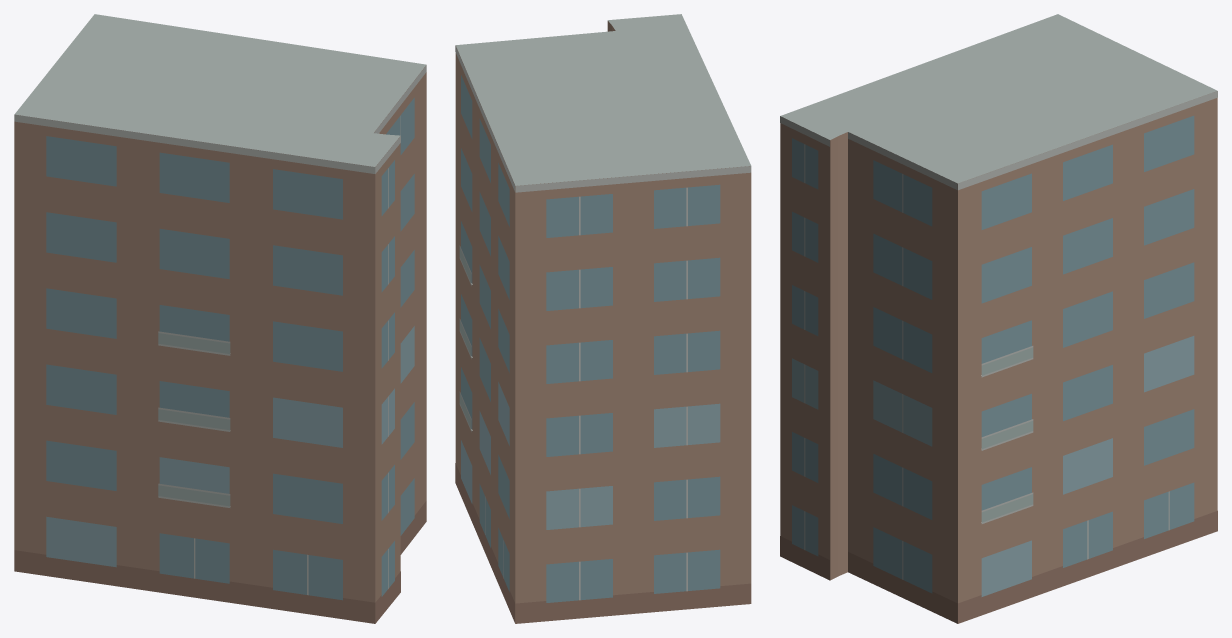
The model's file is survey-upis-32889219.glb.
3 renders of one model, left to right at view 1: azimuth 30°, elevation 25°; view 2: azimuth 150°, elevation 25°; view 3: azimuth 270°, elevation 25°, orthographic. The views are drawn at different scales.
Parts seen in each view (by area): view 1: survey-upis-32889219.tmp; view 2: survey-upis-32889219.tmp; view 3: survey-upis-32889219.tmp.
Boxes of the visible parts, left/top/right/bottom form: survey-upis-32889219.tmp: left=14, top=14, right=426, bottom=623; survey-upis-32889219.tmp: left=455, top=14, right=751, bottom=623; survey-upis-32889219.tmp: left=780, top=14, right=1217, bottom=623.
Size of the model in its own units: 12.97 by 15.7 by 14.15.
